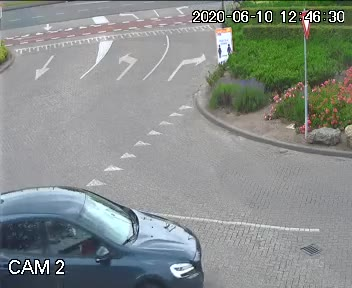car: (0, 183, 218, 288)
